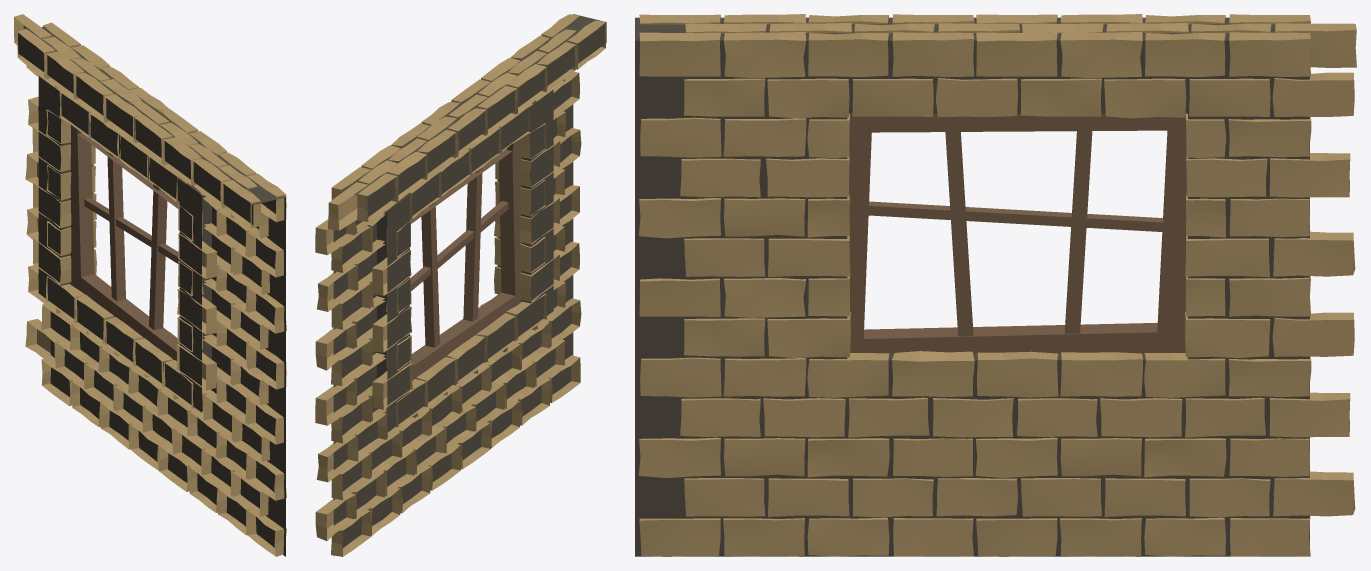
The model's file is Wall_windows.fbx.
3 views of the same model, side by side, from view 1: azimuth 30°, elevation 25°; view 2: azimuth 150°, elevation 25°; view 3: azimuth 270°, elevation 25° (orthographic). The views are drawn at different scales.
Parts seen in each view (by area): view 1: Plane; view 2: Plane; view 3: Plane.
Boxes of the visible parts, left/top/right/bottom form: Plane: left=14, top=14, right=286, bottom=556; Plane: left=315, top=14, right=606, bottom=556; Plane: left=635, top=14, right=1356, bottom=556.
Size of the model in its own units: 39.37 by 357 by 450.
